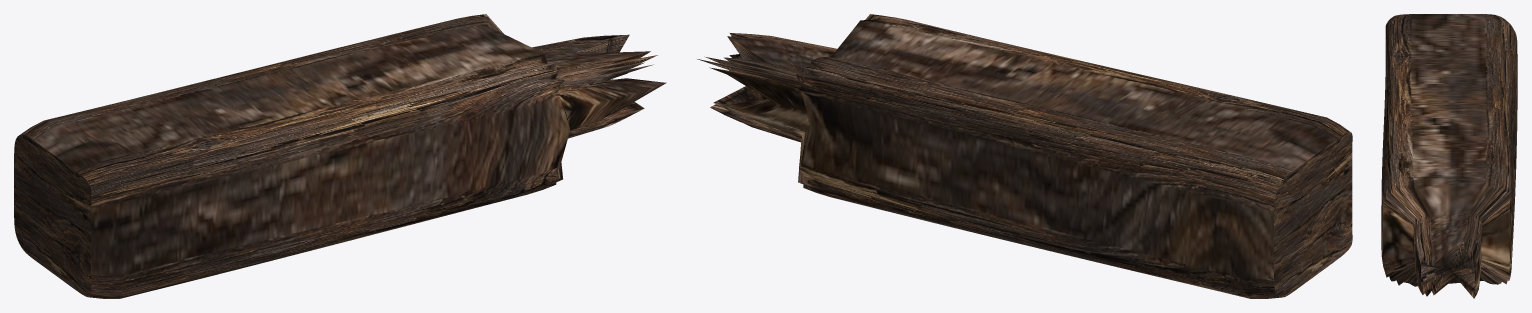
Rendered from tenon_rail.glb.
3 renders of one model, left to right at view 1: azimuth 30°, elevation 25°; view 2: azimuth 150°, elevation 25°; view 3: azimuth 270°, elevation 25°, orthographic. The views are drawn at different scales.
Parts seen in each view (by area): view 1: tenon_rail; view 2: tenon_rail; view 3: tenon_rail.
Boxes of the visible parts, x1,y1,x2,y2 form: tenon_rail: (14, 14, 666, 298); tenon_rail: (697, 14, 1352, 298); tenon_rail: (1381, 14, 1517, 298).
Bounding box in the file's own units: 1.62 × 0.3399 × 0.4118.
1 material, 1 textured.
